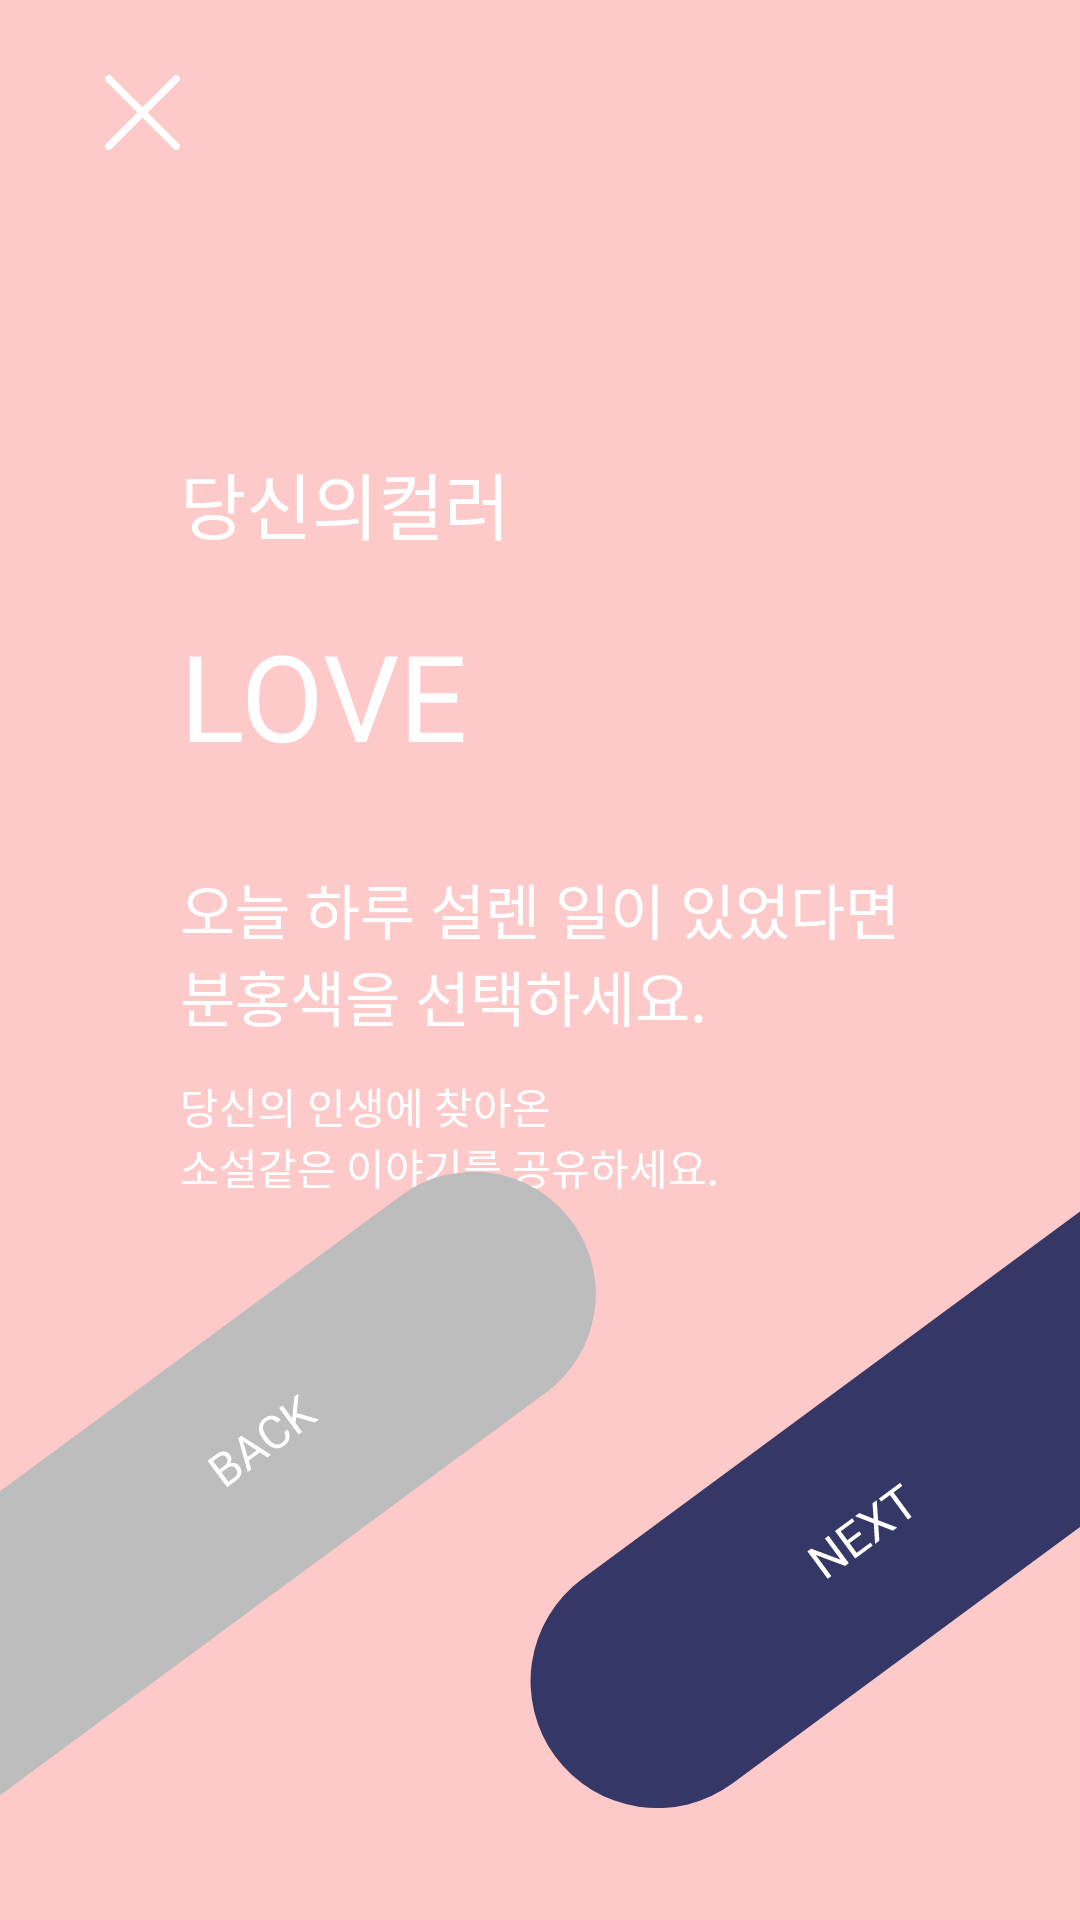

Where icons sit on this 1080*1920 app screen, as (x1, y1, x2, y2):
close: (105, 75, 180, 150)
